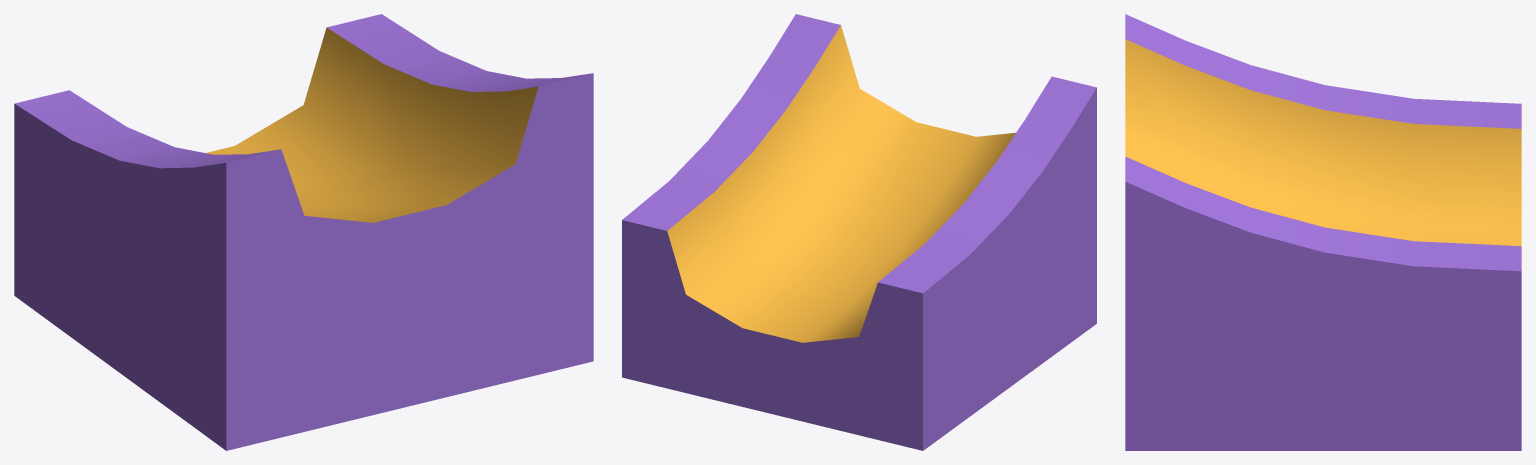
File: kenney-marble-ramp-start-solid-b.glb
3 renders of one model, left to right at view 1: azimuth 30°, elevation 25°; view 2: azimuth 150°, elevation 25°; view 3: azimuth 270°, elevation 25°, orthographic. The views are drawn at different scales.
Visible parts, largest first — view 1: ramp-start-solid-b; view 2: ramp-start-solid-b; view 3: ramp-start-solid-b.
Part boxes in pixels (left/top/right/bottom): ramp-start-solid-b: left=14, top=14, right=593, bottom=450; ramp-start-solid-b: left=622, top=14, right=1096, bottom=450; ramp-start-solid-b: left=1125, top=14, right=1521, bottom=450.
Size of the model in its own units: 1 by 0.75 by 1.
1 material, 1 textured.
